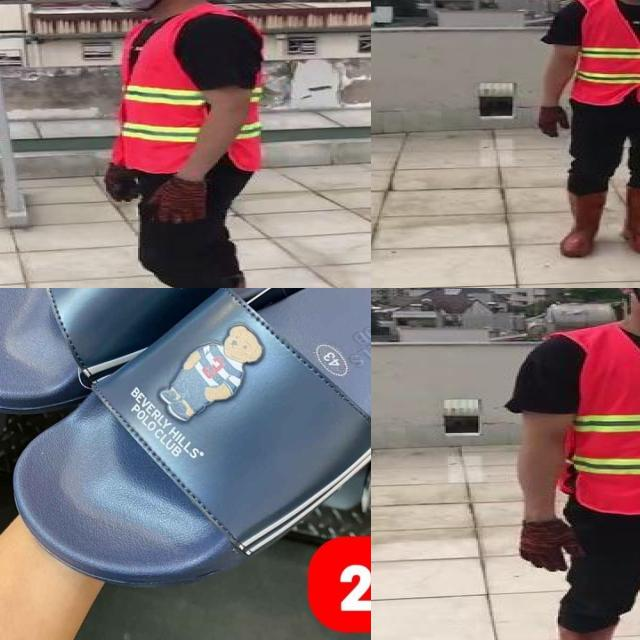Sandals: (0, 288, 371, 595)
boots: (556, 190, 606, 258), (550, 621, 620, 640), (622, 184, 640, 255)
face_mask: (99, 0, 172, 10)
hand_glove: (516, 520, 586, 572), (151, 179, 209, 223), (104, 168, 142, 204), (536, 104, 568, 139)
person: (84, 0, 287, 288), (497, 288, 640, 640), (518, 0, 640, 262)
vest: (115, 11, 269, 172), (567, 330, 640, 510), (571, 0, 640, 106)
